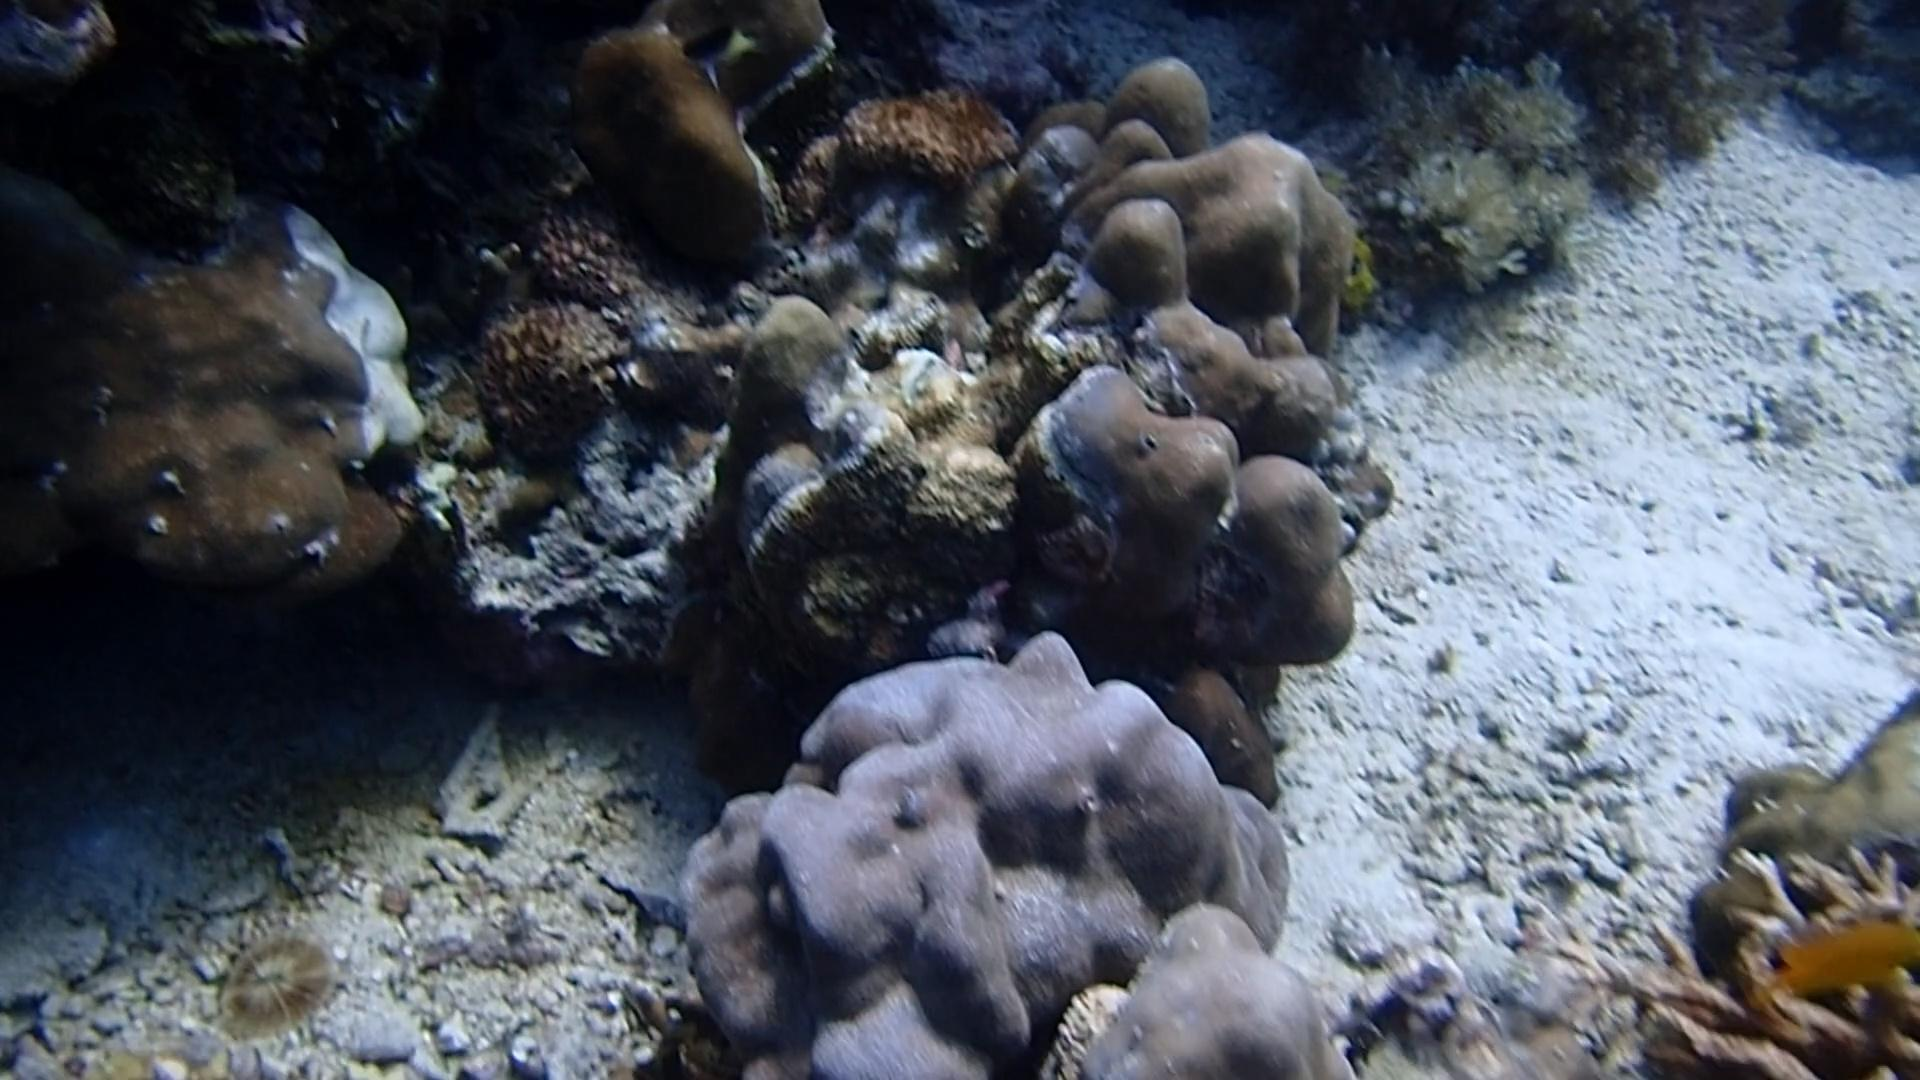Yellow Fish: (1749, 907, 1920, 1005)
Yellow Tail: (674, 17, 773, 86)
